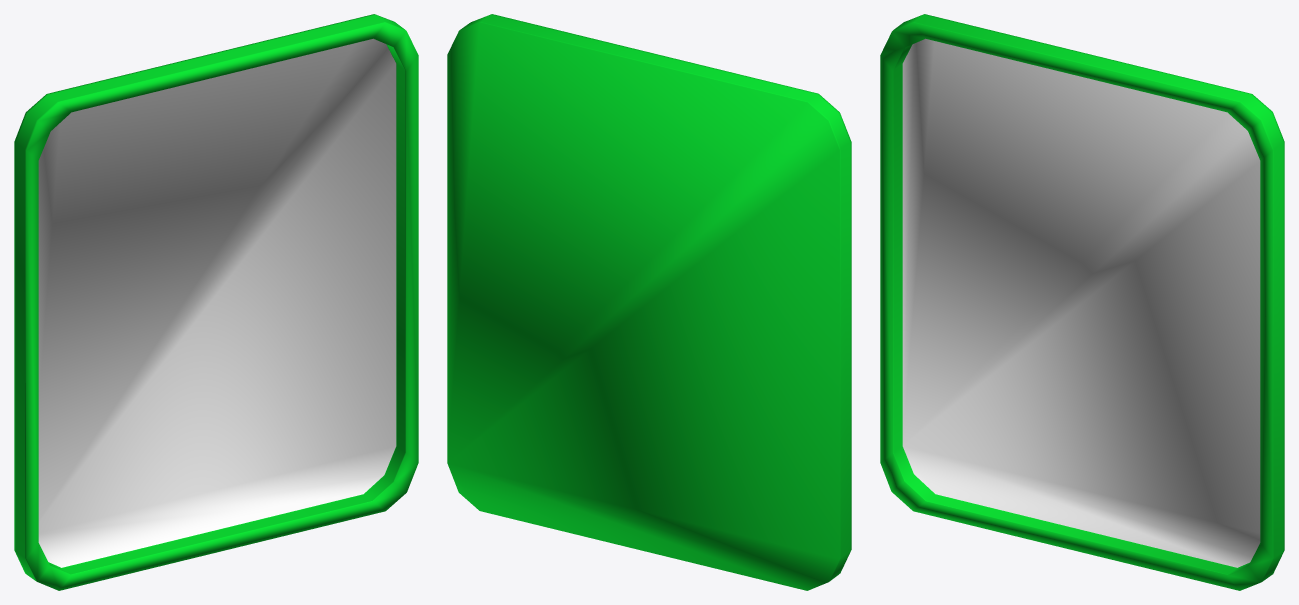
Rendered from Wall frame_2.fbx.
3 views of the same model, side by side, from view 1: azimuth 30°, elevation 25°; view 2: azimuth 150°, elevation 25°; view 3: azimuth 330°, elevation 25° (orthographic).
Visible parts, largest first — view 1: Wall frame.001; view 2: Wall frame.001; view 3: Wall frame.001.
Part boxes in pixels (x1,y1,x2,y2): Wall frame.001: [14, 14, 418, 590]; Wall frame.001: [447, 14, 851, 590]; Wall frame.001: [880, 14, 1284, 590].
Bounding box in the file's own units: 147 × 175 × 7.77.
